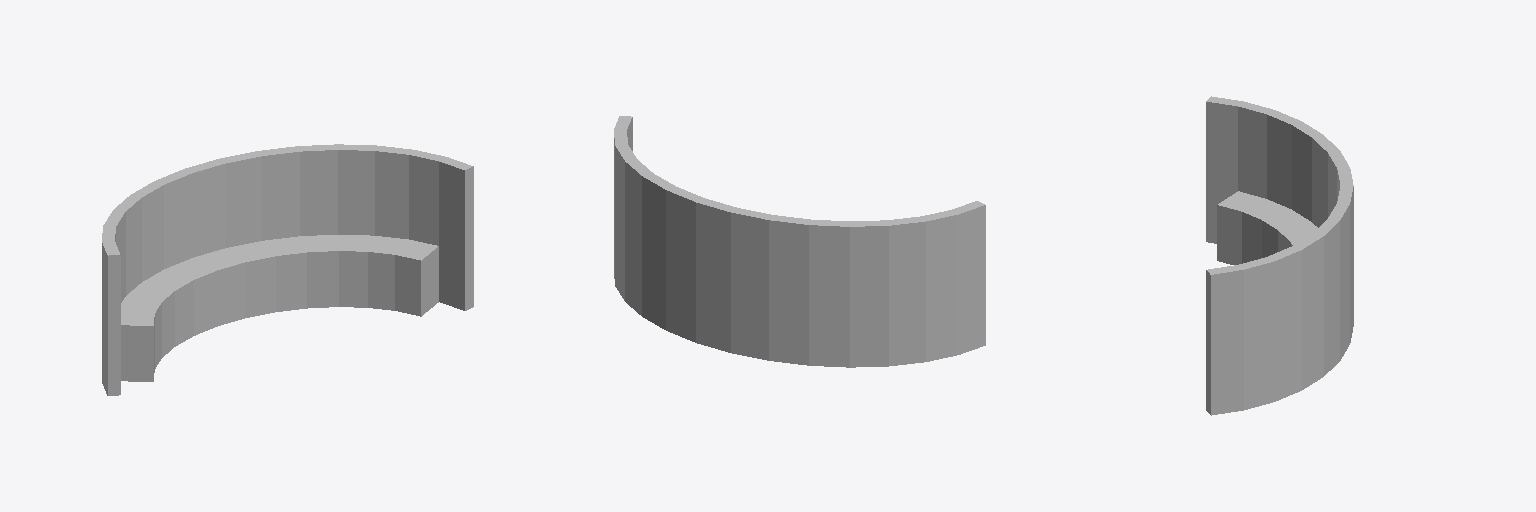
File: Sofa.obj
The picture shows the model from 3 angles: view 1: azimuth 30°, elevation 25°; view 2: azimuth 150°, elevation 25°; view 3: azimuth 270°, elevation 25°; orthographic projection.
Parts seen in each view (by area): view 1: Circle.013_Circle.031; view 2: Circle.013_Circle.031; view 3: Circle.013_Circle.031.
Part boxes in pixels (left/top/right/bottom): Circle.013_Circle.031: left=102, top=144, right=473, bottom=395; Circle.013_Circle.031: left=614, top=116, right=985, bottom=367; Circle.013_Circle.031: left=1206, top=96, right=1353, bottom=415.
Size of the model in its own units: 4.12 by 1.51 by 1.44.